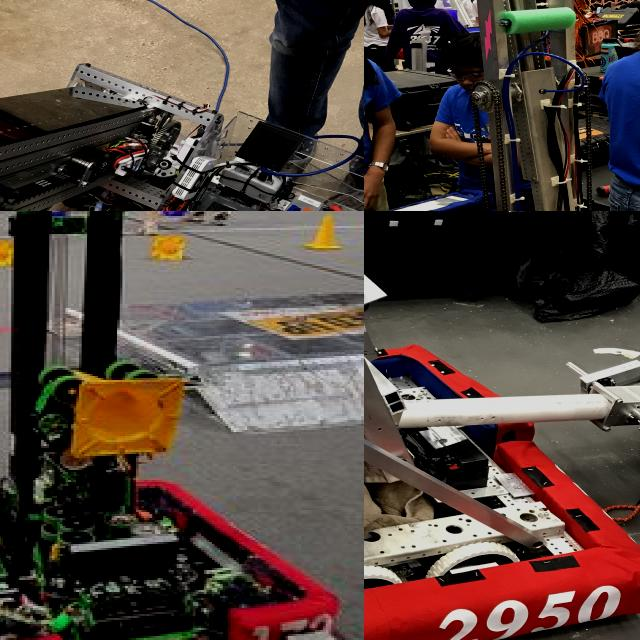FRC-Robots: (0, 211, 364, 640), (364, 211, 640, 640), (364, 0, 640, 211)
